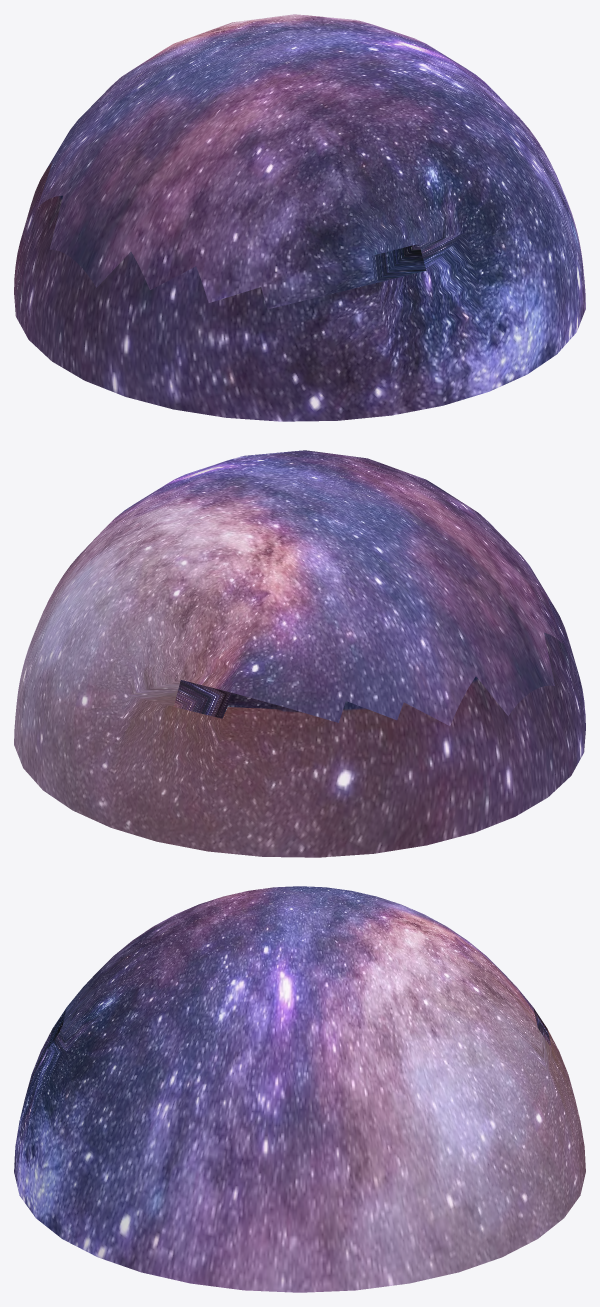
Rendered from cupola_stella-v1.glb.
3 renders of one model, top to bottom at view 1: azimuth 30°, elevation 25°; view 2: azimuth 150°, elevation 25°; view 3: azimuth 270°, elevation 25°, orthographic.
Parts seen in each view (by area): view 1: Sphere462; view 2: Sphere462; view 3: Sphere462.
Part boxes in pixels (x1,y1,x2,y2): Sphere462: (14, 14, 585, 421); Sphere462: (14, 450, 585, 857); Sphere462: (14, 886, 585, 1292).
Bounding box in the file's own units: 6.17 × 3.09 × 6.17.
1 material, 1 textured.
